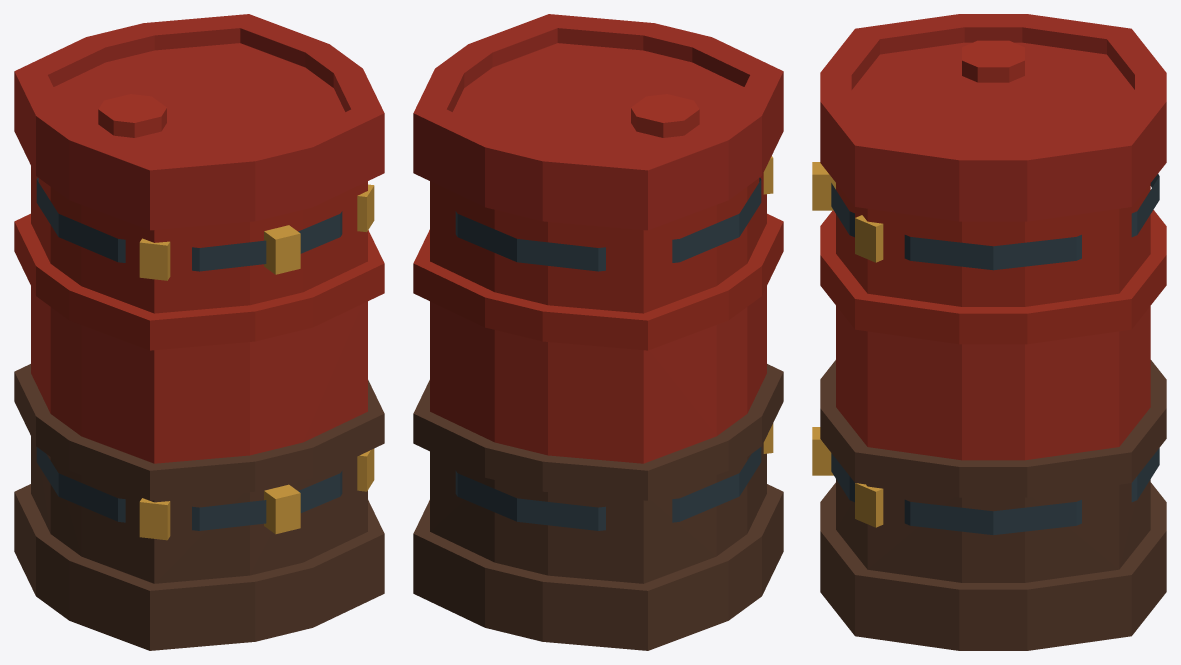
Rendered from barrel-coral.glb.
3 renders of one model, left to right at view 1: azimuth 30°, elevation 25°; view 2: azimuth 150°, elevation 25°; view 3: azimuth 270°, elevation 25°, orthographic. The views are drawn at different scales.
Visible parts, largest first — view 1: barrel-coral; view 2: barrel-coral; view 3: barrel-coral.
Part boxes in pixels (x1=…): barrel-coral: x1=14, y1=14, x2=384, y2=650; barrel-coral: x1=413, y1=14, x2=783, y2=650; barrel-coral: x1=812, y1=14, x2=1166, y2=650.
Size of the model in its own units: 0.55 by 0.86 by 0.5625.
